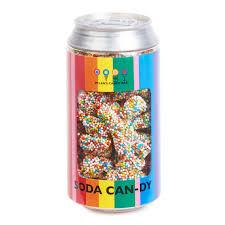Aluminum can: (58, 10, 170, 220)
